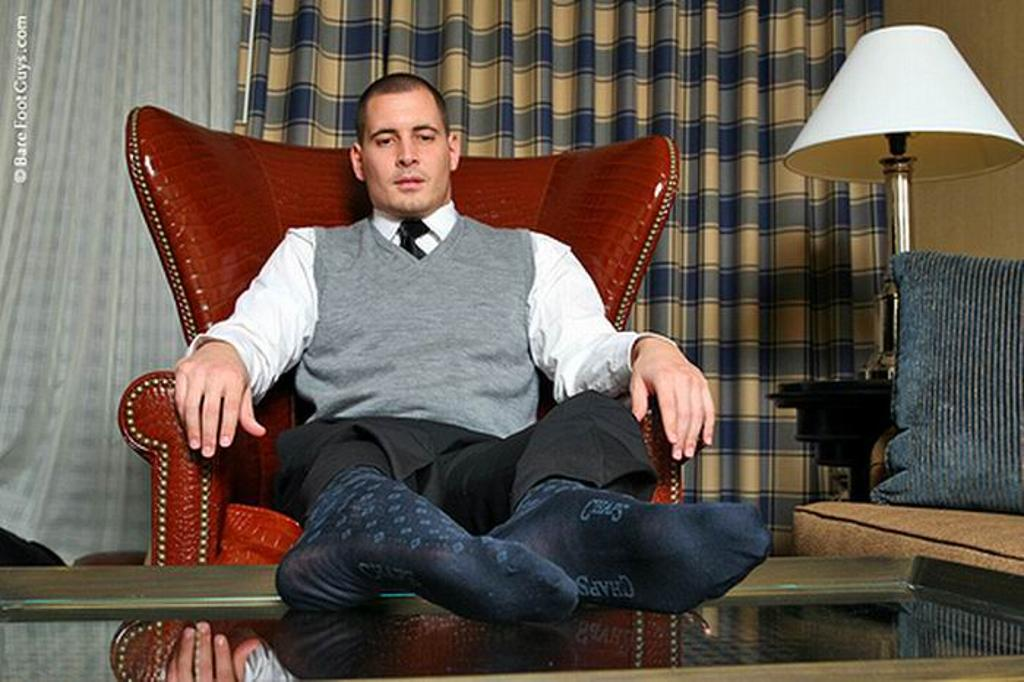face: (362, 84, 450, 212)
